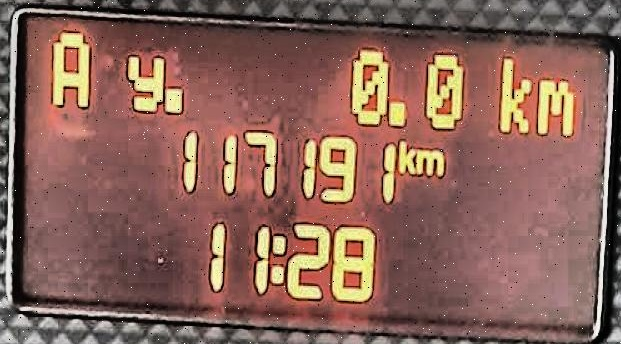-: (161, 81, 184, 115), (385, 93, 405, 127)
0: (420, 44, 465, 131), (345, 41, 389, 125)
1: (204, 218, 226, 291), (249, 221, 269, 297), (178, 125, 199, 193), (218, 128, 239, 194), (376, 139, 395, 205), (299, 133, 318, 199)
2: (285, 217, 330, 301)
7: (240, 125, 280, 197)
8: (330, 219, 377, 303)
9: (319, 131, 358, 203)
X: (47, 25, 93, 109), (494, 53, 533, 138), (123, 49, 164, 115), (534, 74, 576, 137), (415, 143, 445, 177), (269, 231, 285, 286), (395, 136, 415, 175)
